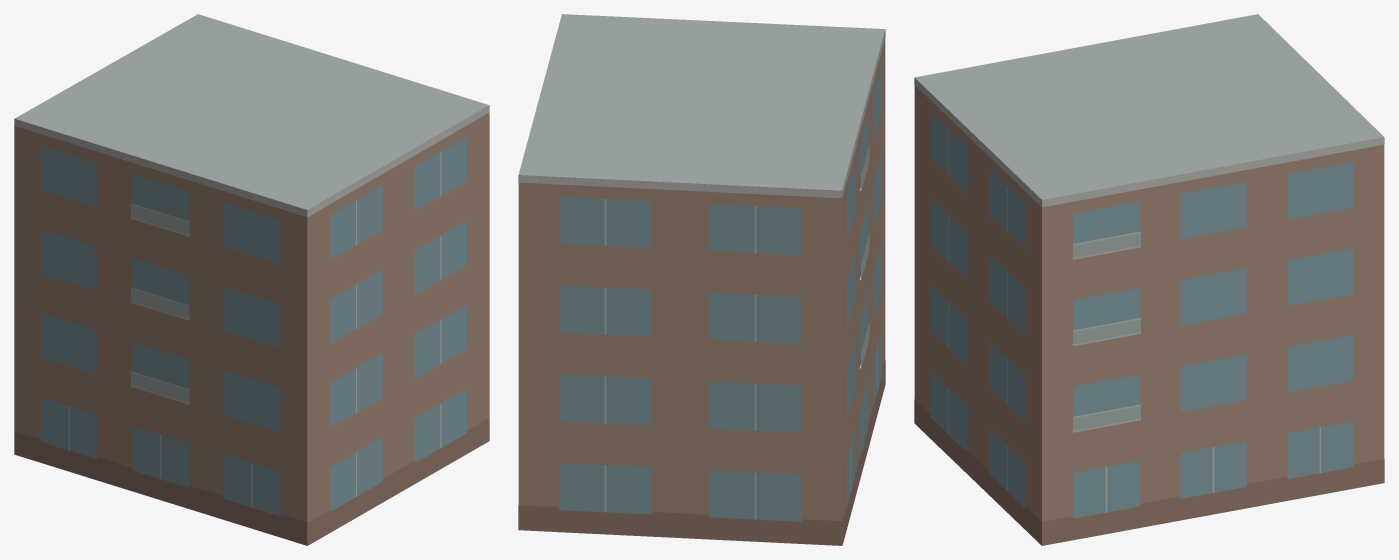
File: survey-upis-32595215.glb
3 renders of one model, left to right at view 1: azimuth 30°, elevation 25°; view 2: azimuth 150°, elevation 25°; view 3: azimuth 270°, elevation 25°, orthographic. The views are drawn at different scales.
Parts seen in each view (by area): view 1: survey-upis-32595215.tmp; view 2: survey-upis-32595215.tmp; view 3: survey-upis-32595215.tmp.
Boxes of the visible parts, x1=… form: survey-upis-32595215.tmp: x1=14, y1=14, x2=489, y2=545; survey-upis-32595215.tmp: x1=518, y1=14, x2=885, y2=545; survey-upis-32595215.tmp: x1=914, y1=14, x2=1384, y2=545.
Bounding box in the file's own units: 13.13 × 11.37 × 14.01.
